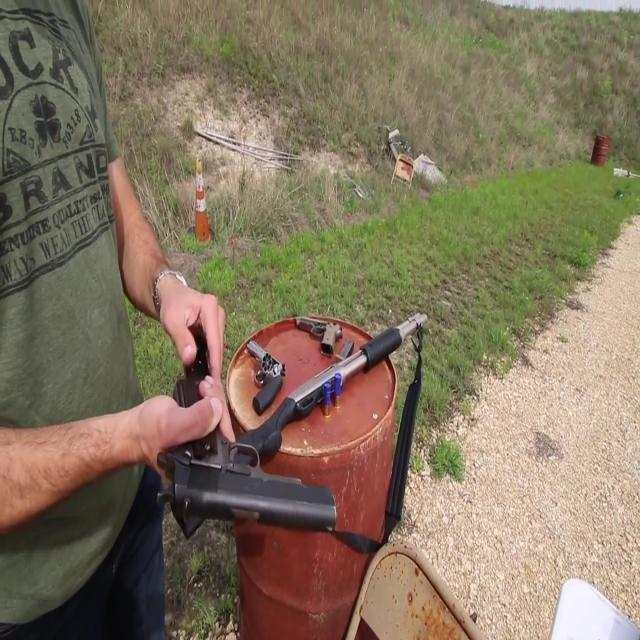Weapon: (139, 194, 458, 600)
